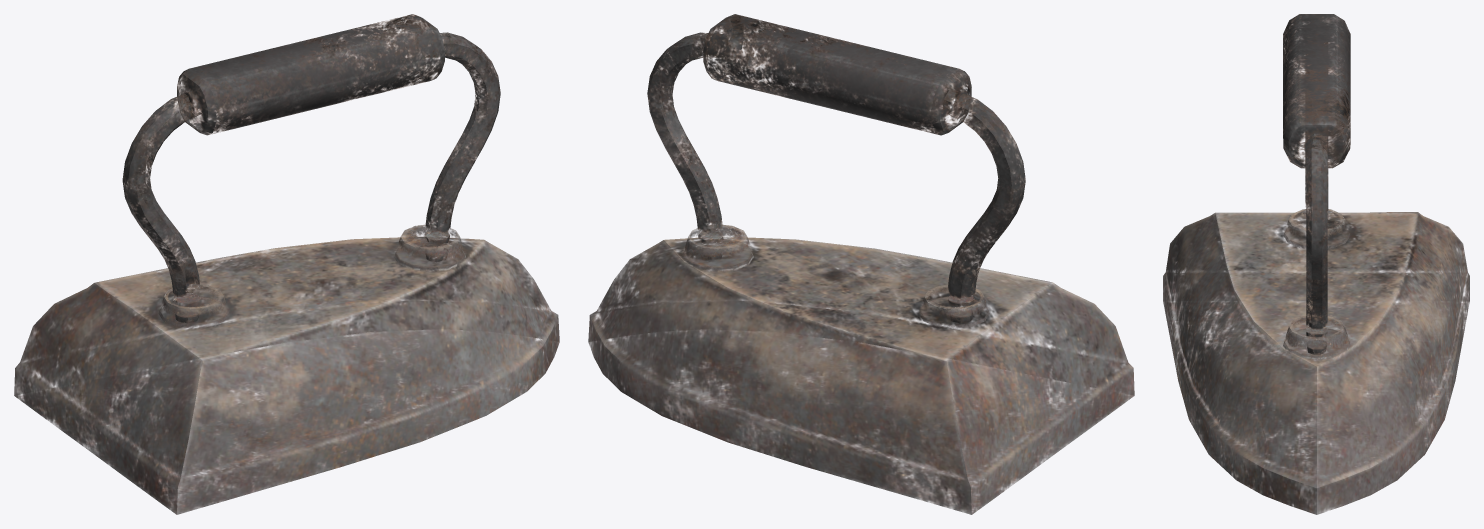
File: iron-sad.glb
3 views of the same model, side by side, from view 1: azimuth 30°, elevation 25°; view 2: azimuth 150°, elevation 25°; view 3: azimuth 270°, elevation 25° (orthographic). The views are drawn at different scales.
Parts seen in each view (by area): view 1: iron-sad; view 2: iron-sad; view 3: iron-sad.
Part boxes in pixels (box(x1,y1,x2,y2)): iron-sad: box(14, 14, 559, 514); iron-sad: box(588, 14, 1134, 514); iron-sad: box(1163, 14, 1469, 514).
Size of the model in its own units: 0.17 by 0.124 by 0.1031.
Materials: 1 (1 with a texture image).
